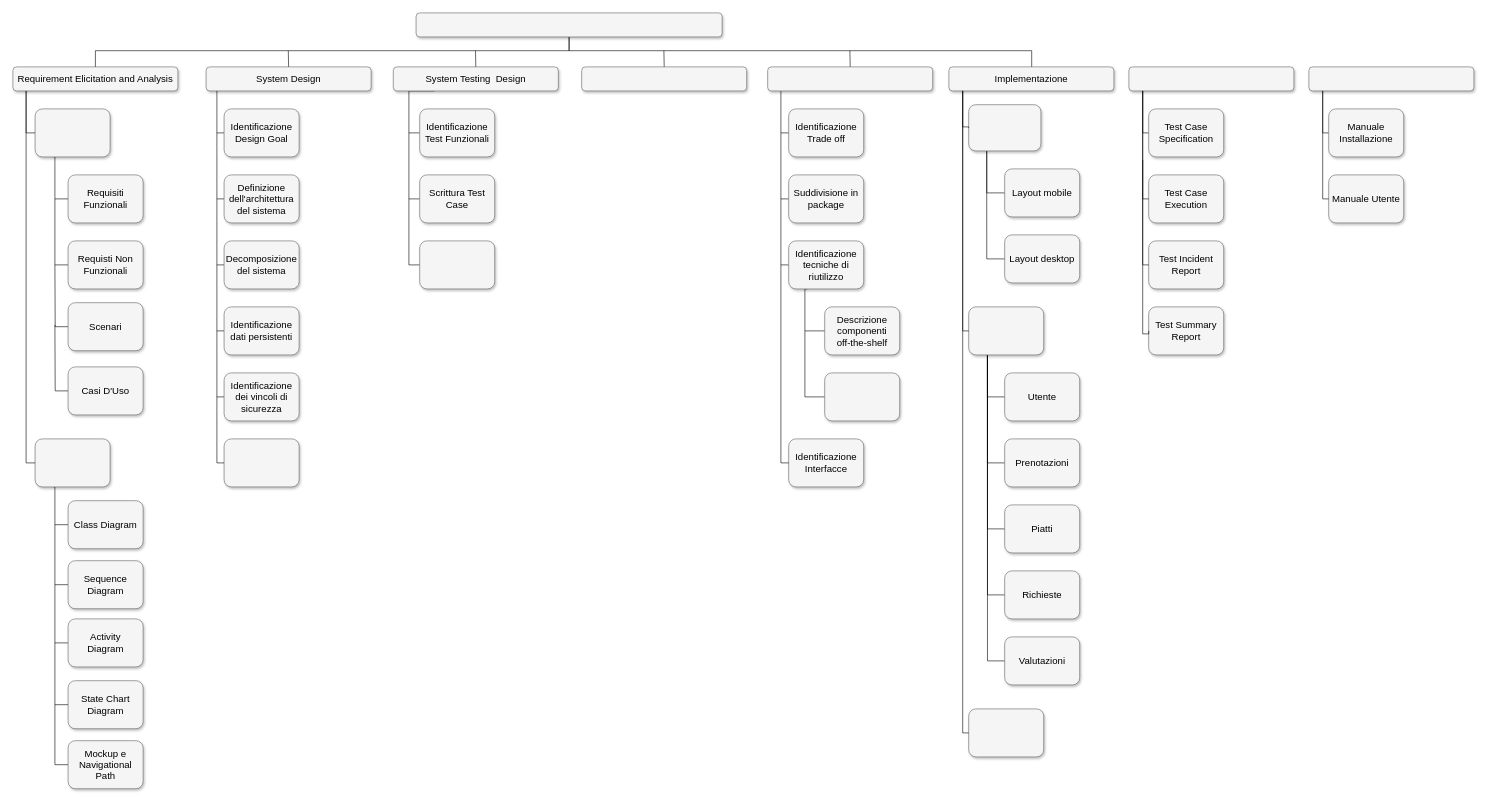
Some shapes in this 1488 by 803 pixel diagram are drawn without their labels. Each missing label, with the centre of its shape:
"Business" belongs at point 1006,331.
"Consegna Intermedia" belongs at point 664,79.
"Green Leaf" belongs at point 569,25.
"GUI" belongs at point 1005,128.
"Identificazione servizi dei sottosistemi" belongs at point 262,463.
"Individuazione Design Pattern" belongs at point 862,397.
"Object Design" belongs at point 850,79.
"Release" belongs at point 1392,79.
"Requirement Analysis" belongs at point 73,463.
"Requirement Elicitation" belongs at point 73,133.
"Storage" belongs at point 1006,733.
"Test Plan e Test Case Specification" belongs at point 457,265.
"Testing" belongs at point 1212,79.
